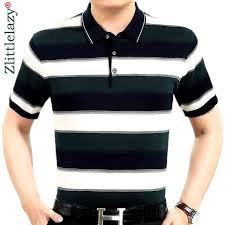striped: (7, 5, 220, 210)
